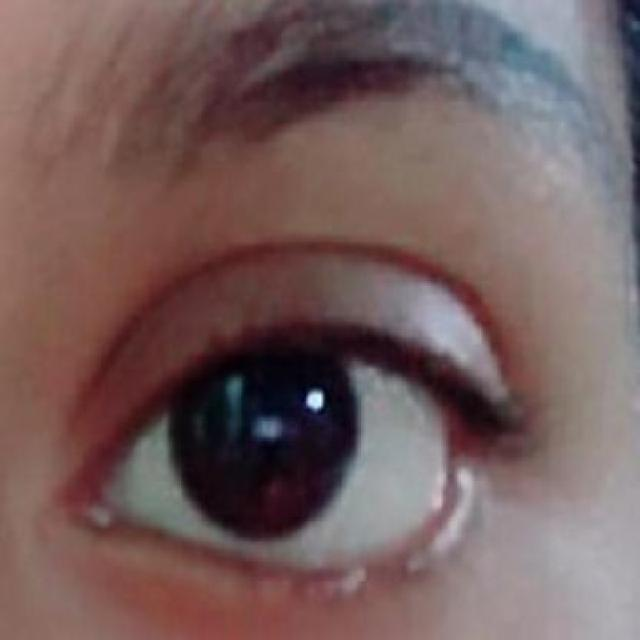awake: (78, 246, 460, 589)
